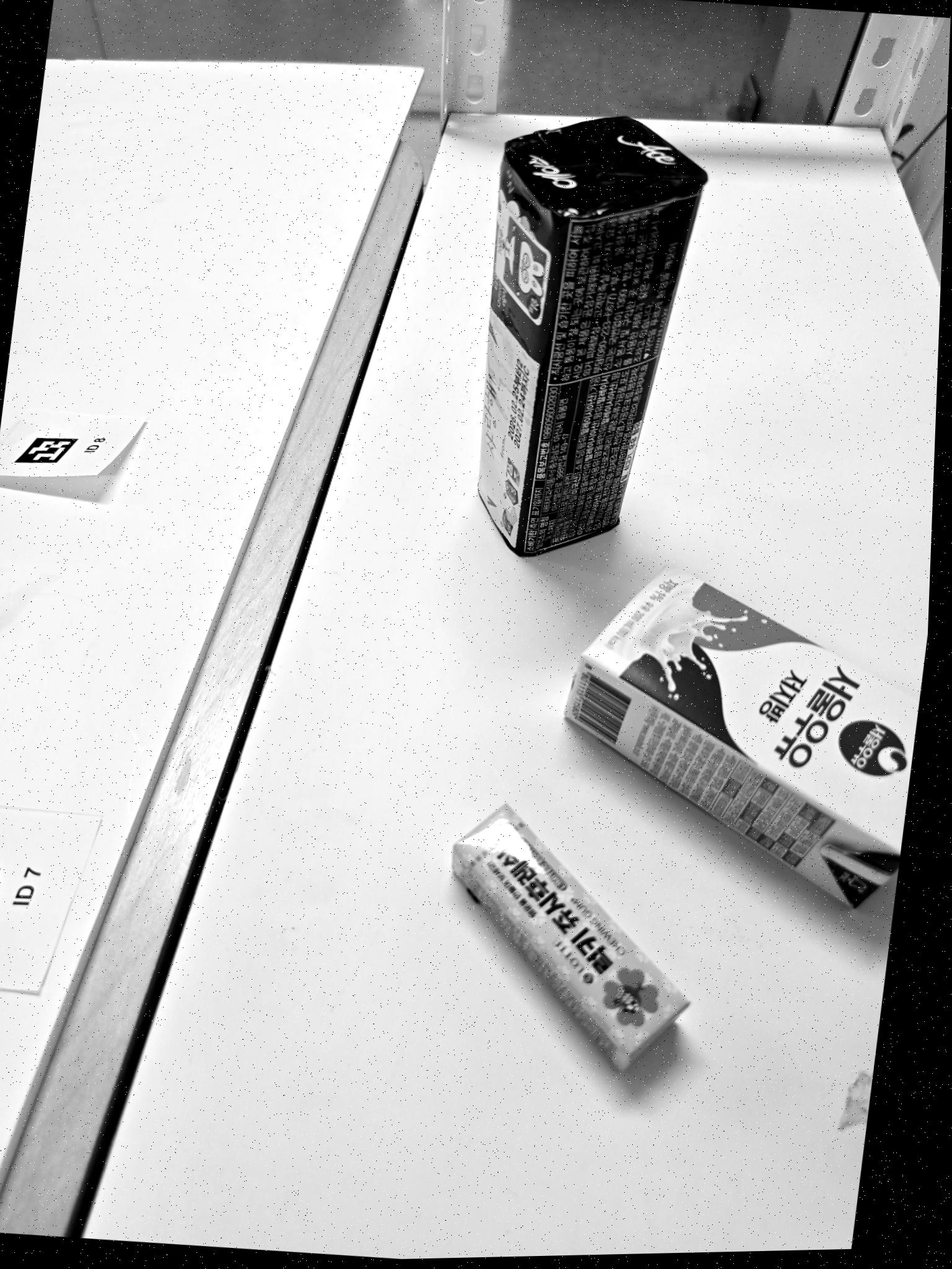cracker_ace: (478, 116, 707, 556)
gum_yellow: (453, 806, 688, 1069)
milk_blue: (565, 567, 919, 907)
